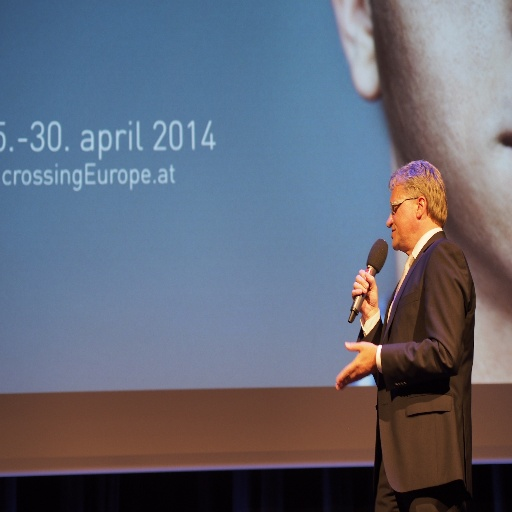hand: (334, 338, 379, 393), (351, 267, 382, 333)
